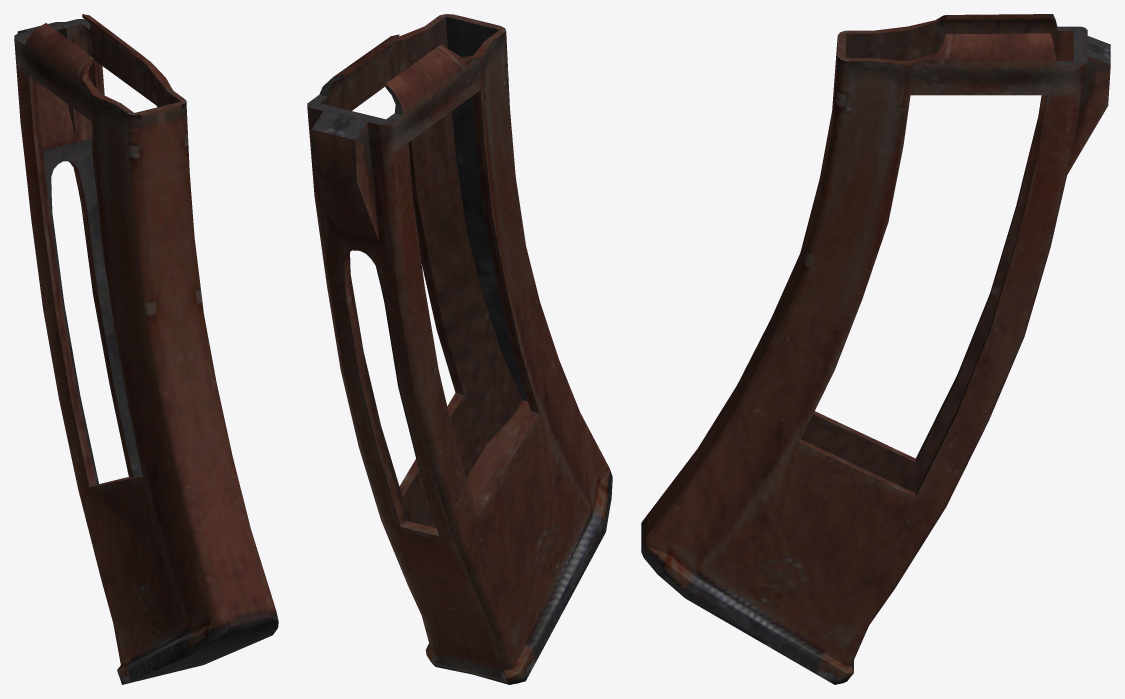
Rendered from mag.obj.
The picture shows the model from 3 angles, left to right: view 1: azimuth 30°, elevation 25°; view 2: azimuth 150°, elevation 25°; view 3: azimuth 270°, elevation 25°; orthographic projection. The views are drawn at different scales.
Parts seen in each view (by area): view 1: wpn34_ak; view 2: wpn34_ak; view 3: wpn34_ak.
Boxes of the visible parts, bbox=[...] form: wpn34_ak: bbox=[14, 14, 278, 684]; wpn34_ak: bbox=[307, 14, 612, 684]; wpn34_ak: bbox=[641, 14, 1110, 684].
Size of the model in its own units: 0.0283 by 0.1893 by 0.1257.
Materials: 1 (1 with a texture image).
